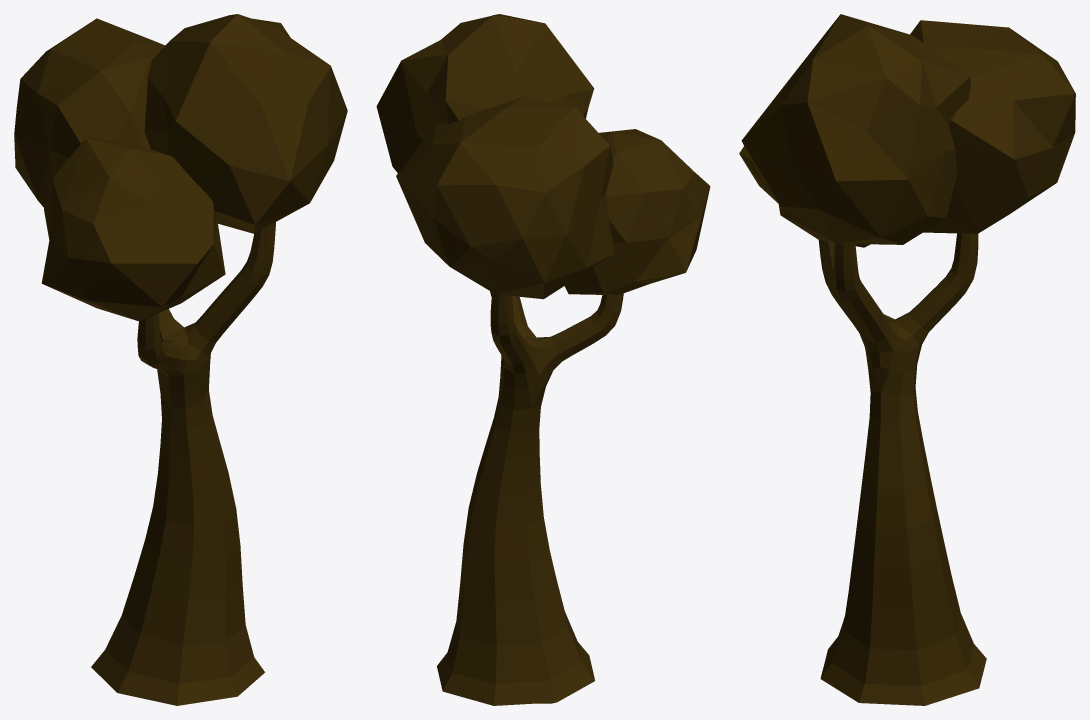
File: BulbTree.fbx
3 views of the same model, side by side, from view 1: azimuth 30°, elevation 25°; view 2: azimuth 150°, elevation 25°; view 3: azimuth 270°, elevation 25° (orthographic). The views are drawn at different scales.
Parts seen in each view (by area): view 1: Plane; view 2: Plane; view 3: Plane.
Boxes of the visible parts, x1=… form: Plane: x1=14, y1=14, x2=347, y2=705; Plane: x1=376, y1=14, x2=710, y2=705; Plane: x1=739, y1=14, x2=1075, y2=705.
Bounding box in the file's own units: 373 × 795 × 362.
